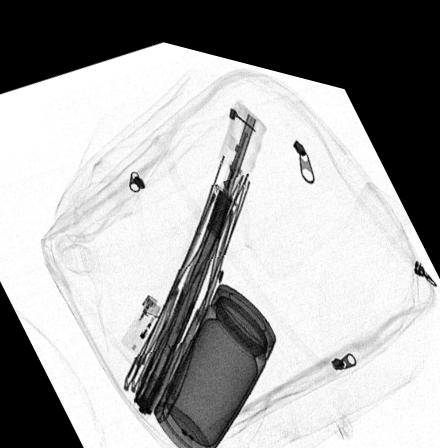Lighter: (114, 286, 160, 356)
